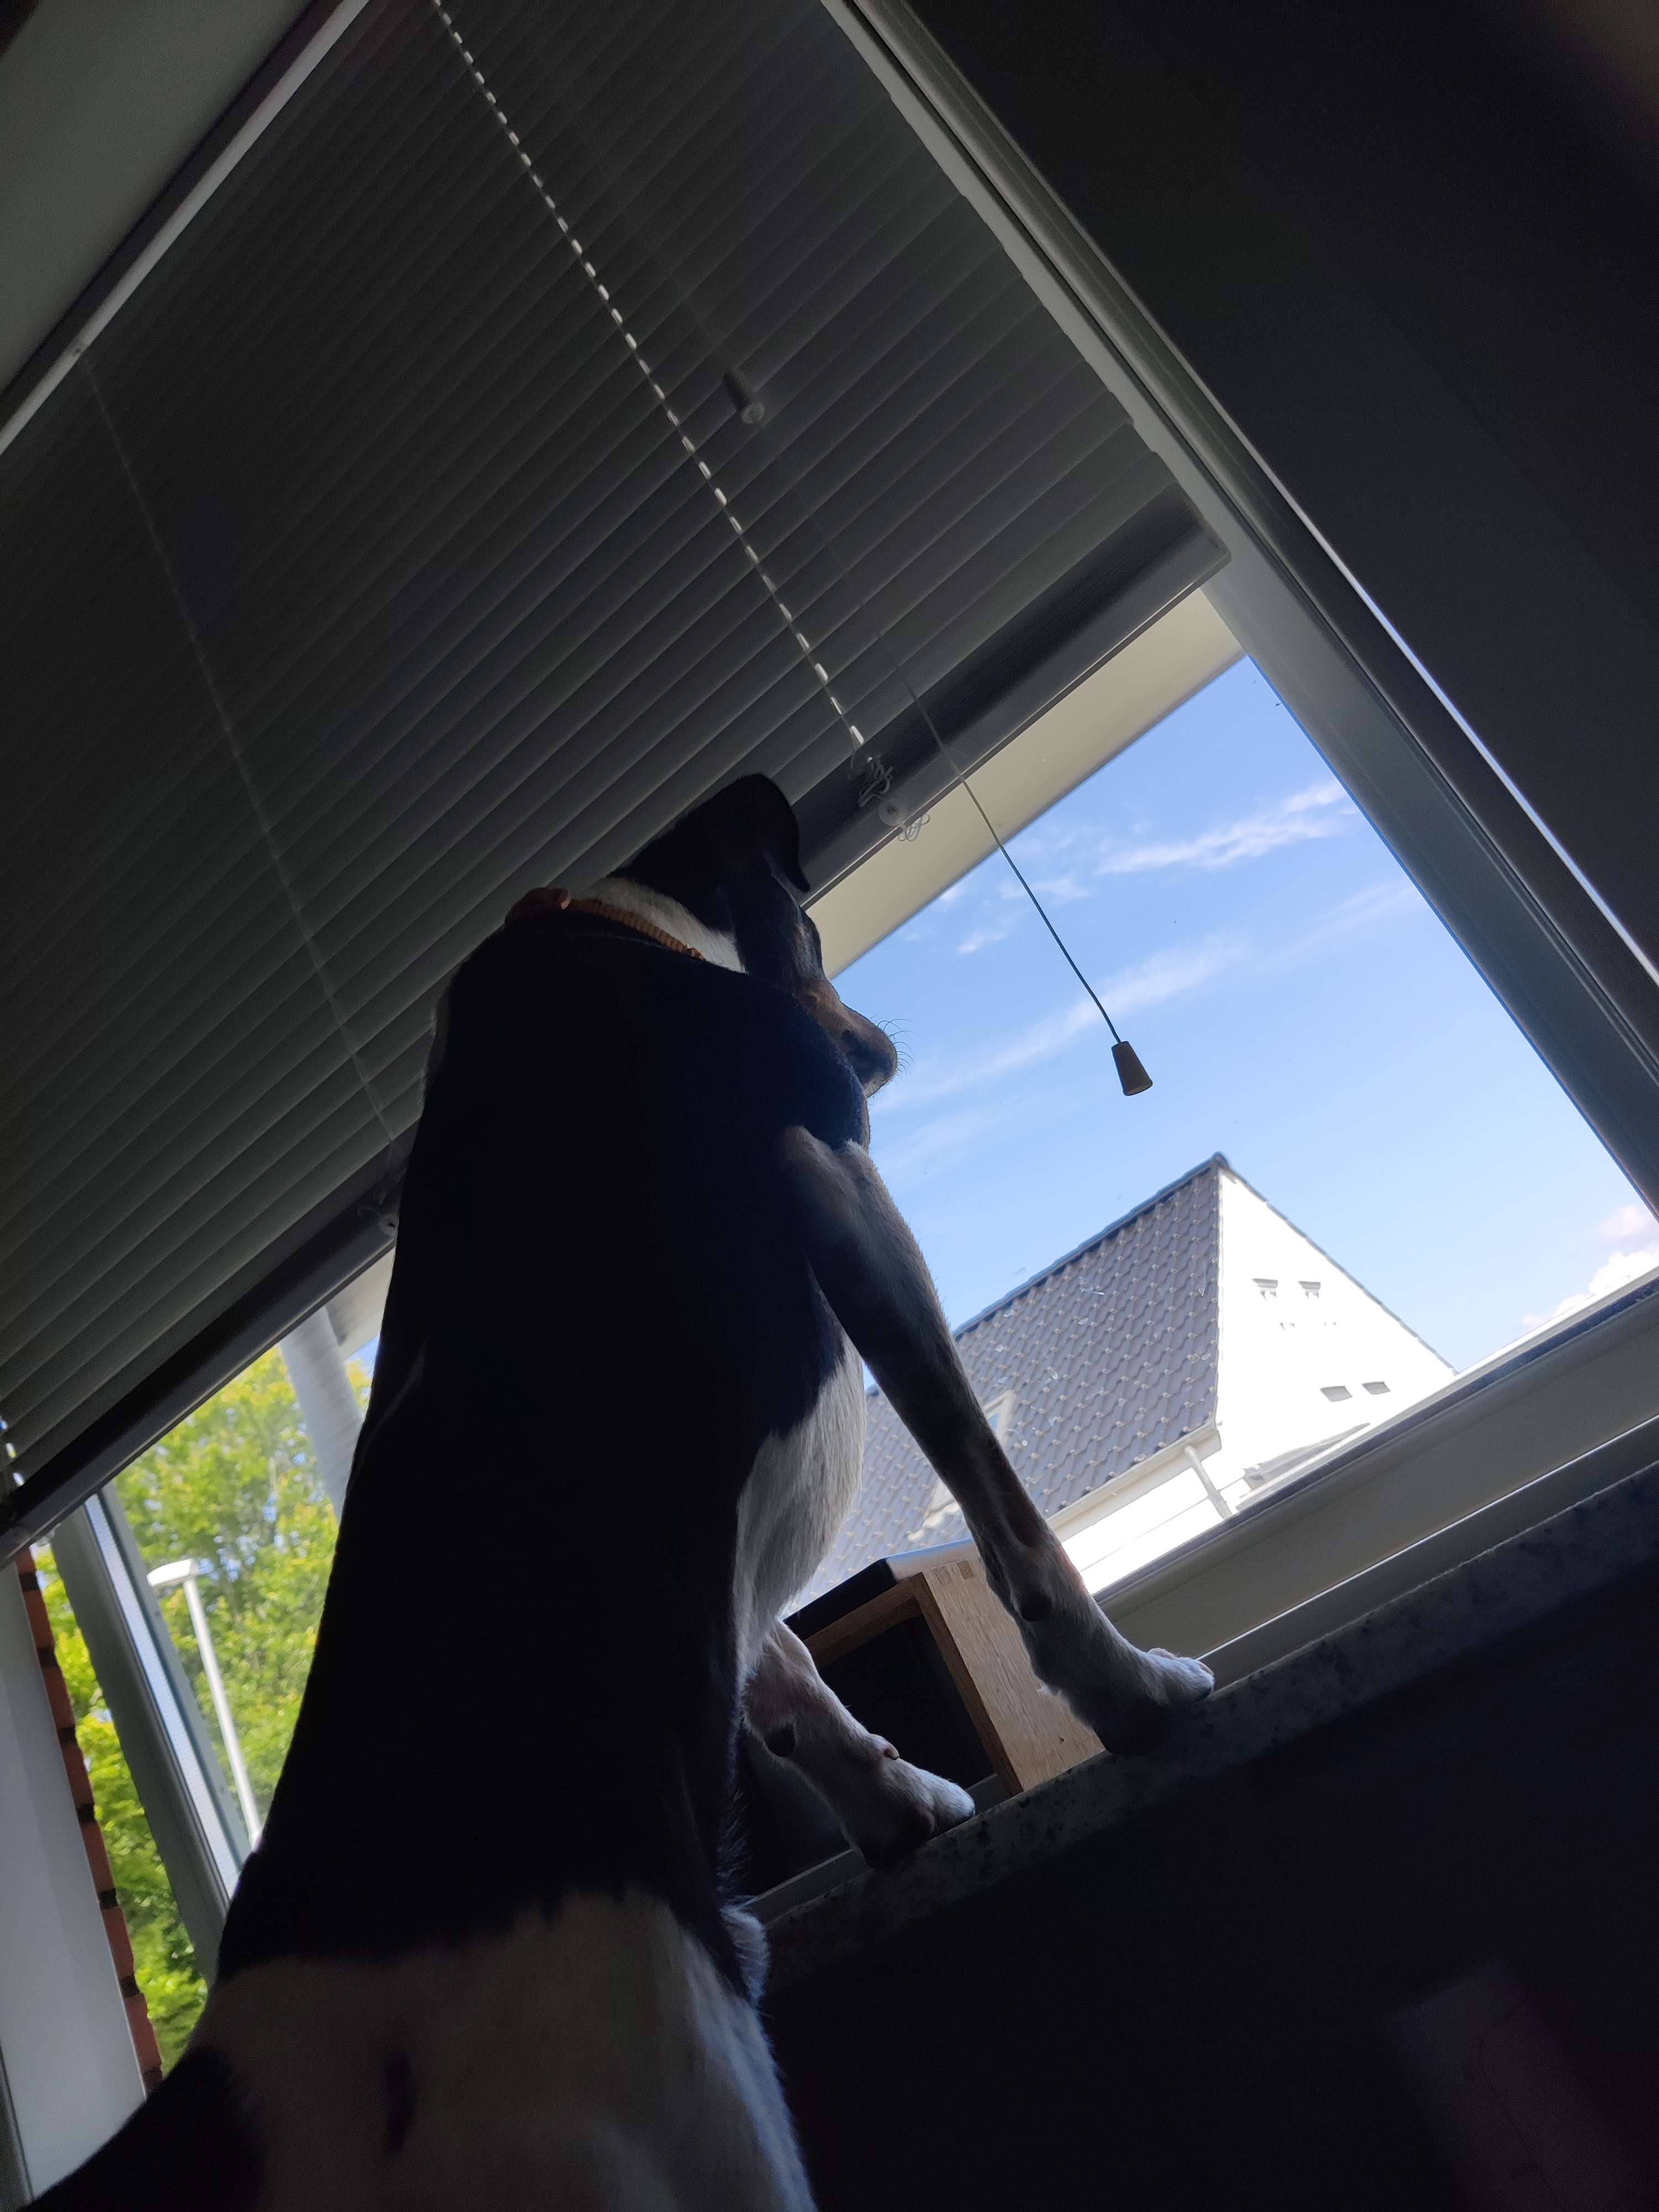Dog: (0, 752, 1227, 2212)
